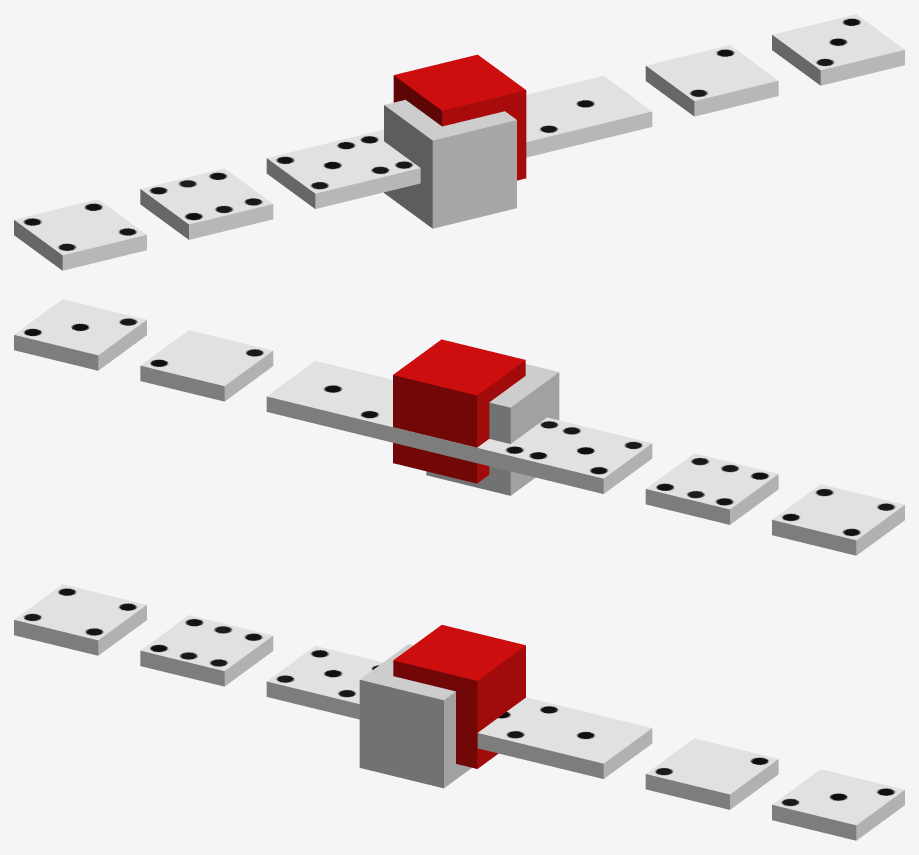
3 views of the same model, one above another, from view 1: azimuth 30°, elevation 25°; view 2: azimuth 150°, elevation 25°; view 3: azimuth 330°, elevation 25° (orthographic).
Visible parts, largest first — view 1: Cube, Cube.001, Dom.010, Dom.101, Dom.303, Dom.212, Dom.202, Dom.111, Dom.010_low_0; view 2: Cube.001, Dom.010, Dom.101, Dom.303, Dom.212, Dom.202, Dom.111, Cube, Dom.010_low_0; view 3: Cube, Cube.001, Dom.010, Dom.101, Dom.303, Dom.202, Dom.111, Dom.212.
Part boxes in pixels (x1,y1,x2,y2): Cube: (384, 100, 516, 228); Cube.001: (393, 54, 526, 180); Dom.010: (526, 76, 652, 157); Dom.101: (645, 45, 778, 116); Dom.303: (140, 168, 273, 239); Dom.212: (266, 137, 399, 208); Dom.202: (14, 199, 146, 270); Dom.111: (772, 14, 904, 85); Dom.010_low_0: (351, 129, 420, 188); Cube.001: (393, 339, 525, 483); Dom.010: (266, 361, 435, 452); Dom.101: (140, 330, 273, 401); Dom.303: (645, 453, 778, 524); Dom.212: (519, 422, 652, 493); Dom.202: (772, 484, 904, 555); Dom.111: (14, 299, 146, 370); Cube: (426, 364, 559, 495); Dom.010_low_0: (435, 417, 567, 473); Cube: (359, 644, 471, 788); Cube.001: (393, 625, 525, 768); Dom.010: (477, 697, 652, 778); Dom.101: (645, 738, 778, 809); Dom.303: (140, 615, 273, 686); Dom.202: (14, 584, 146, 655); Dom.111: (772, 769, 904, 840); Dom.212: (266, 646, 382, 717).
Size of the model in its own units: 20 by 2.36 by 2.5.
8 materials, 6 textured.
